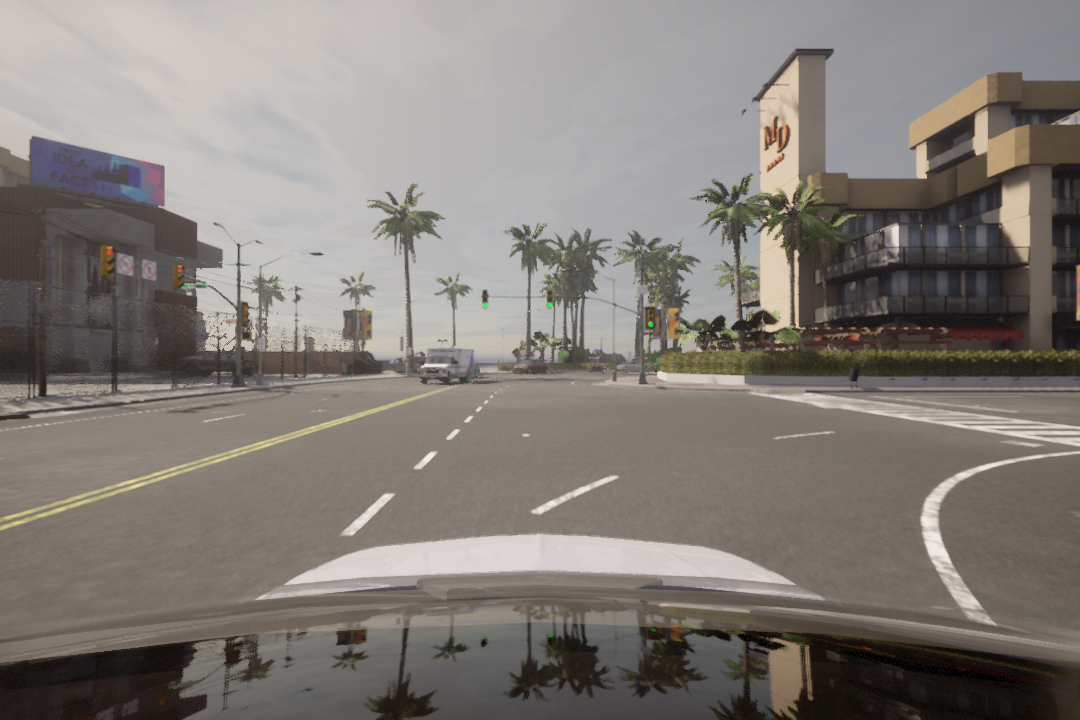TrafficLight: (643, 305, 657, 331), (481, 289, 489, 310), (547, 291, 554, 310)
